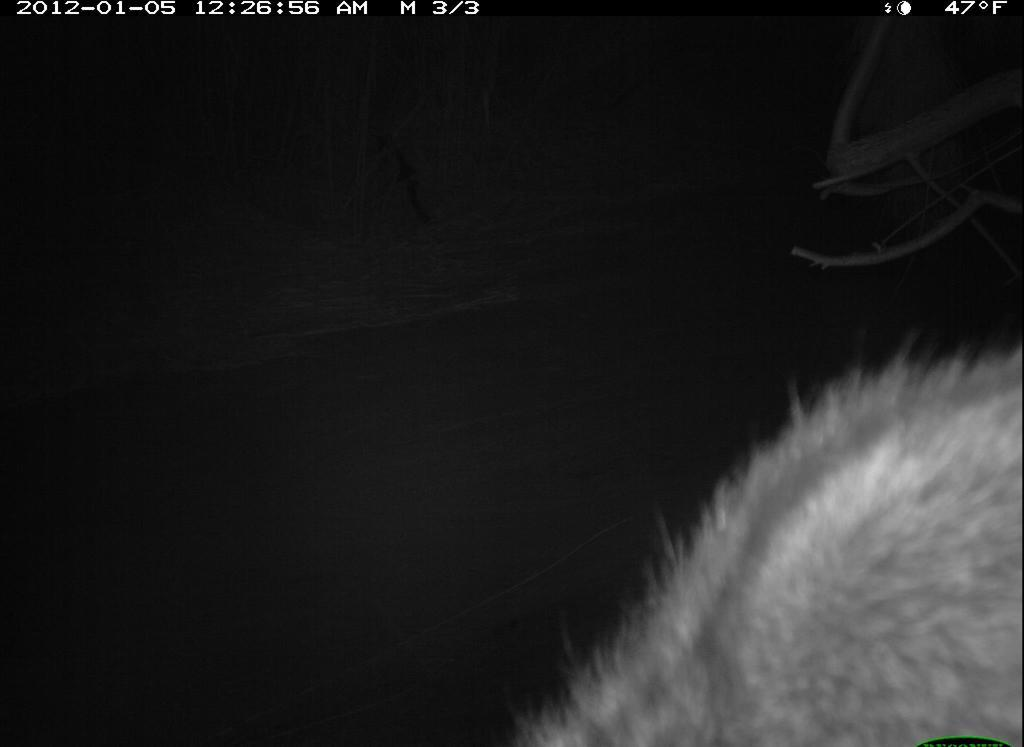raccoon: (478, 318, 1024, 747)
